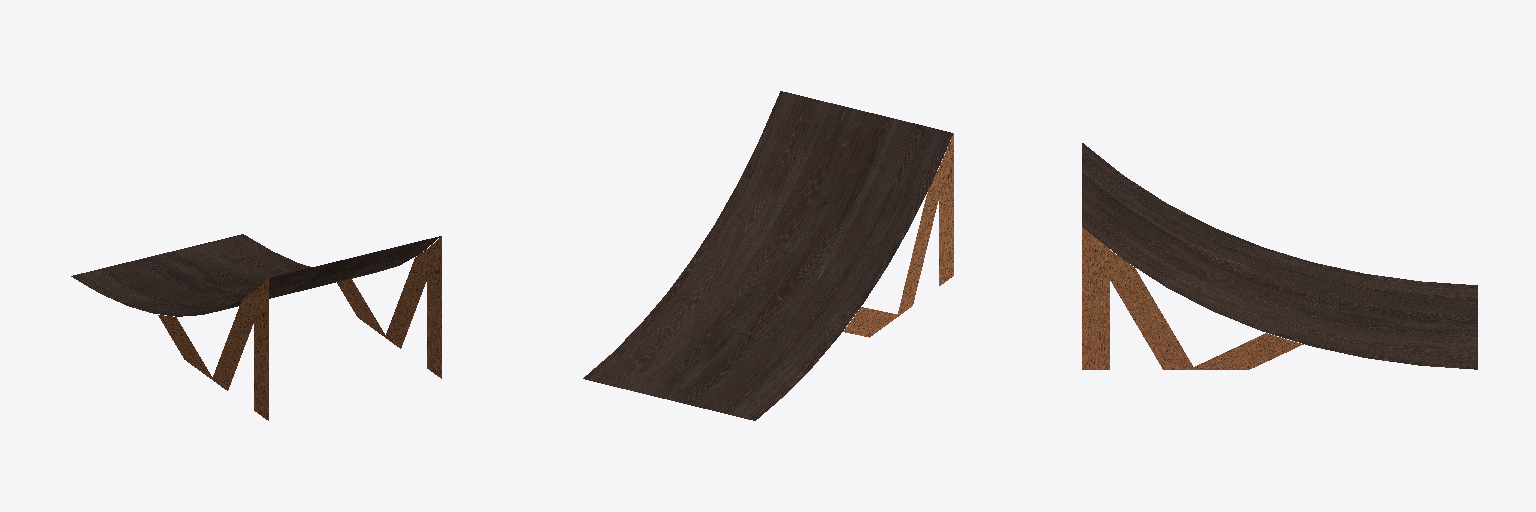
3 renders of one model, left to right at view 1: azimuth 30°, elevation 25°; view 2: azimuth 150°, elevation 25°; view 3: azimuth 270°, elevation 25°, orthographic.
Size of the model in its own units: 35.26 by 27.87 by 69.92.
Materials: 2 (2 with a texture image).